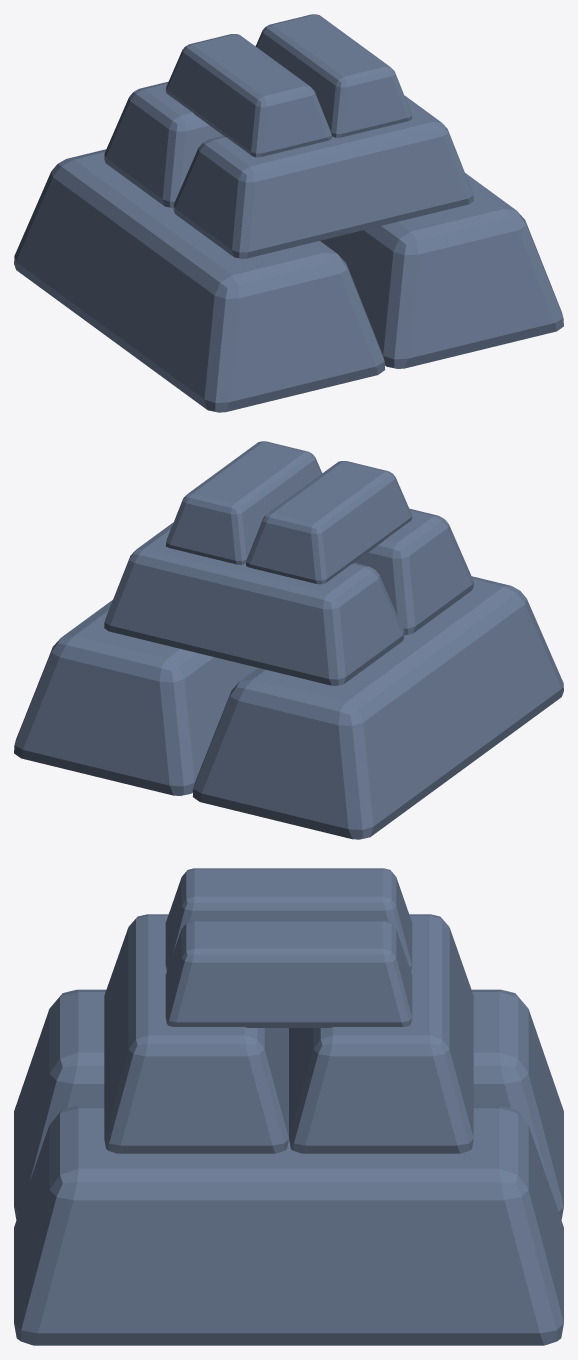
The model's file is Pedra de ferro refinado conjunto.fbx.
3 views of the same model, one above another, from view 1: azimuth 30°, elevation 25°; view 2: azimuth 150°, elevation 25°; view 3: azimuth 270°, elevation 25° (orthographic). The views are drawn at different scales.
Visible parts, largest first — view 1: Iron_Bars_Stack_Small; view 2: Iron_Bars_Stack_Small; view 3: Iron_Bars_Stack_Small.
Part boxes in pixels (x1,y1,x2,y2): Iron_Bars_Stack_Small: [14, 14, 563, 412]; Iron_Bars_Stack_Small: [14, 441, 563, 839]; Iron_Bars_Stack_Small: [14, 868, 563, 1345].
Bounding box in the file's own units: 80 × 52.5 × 80.
